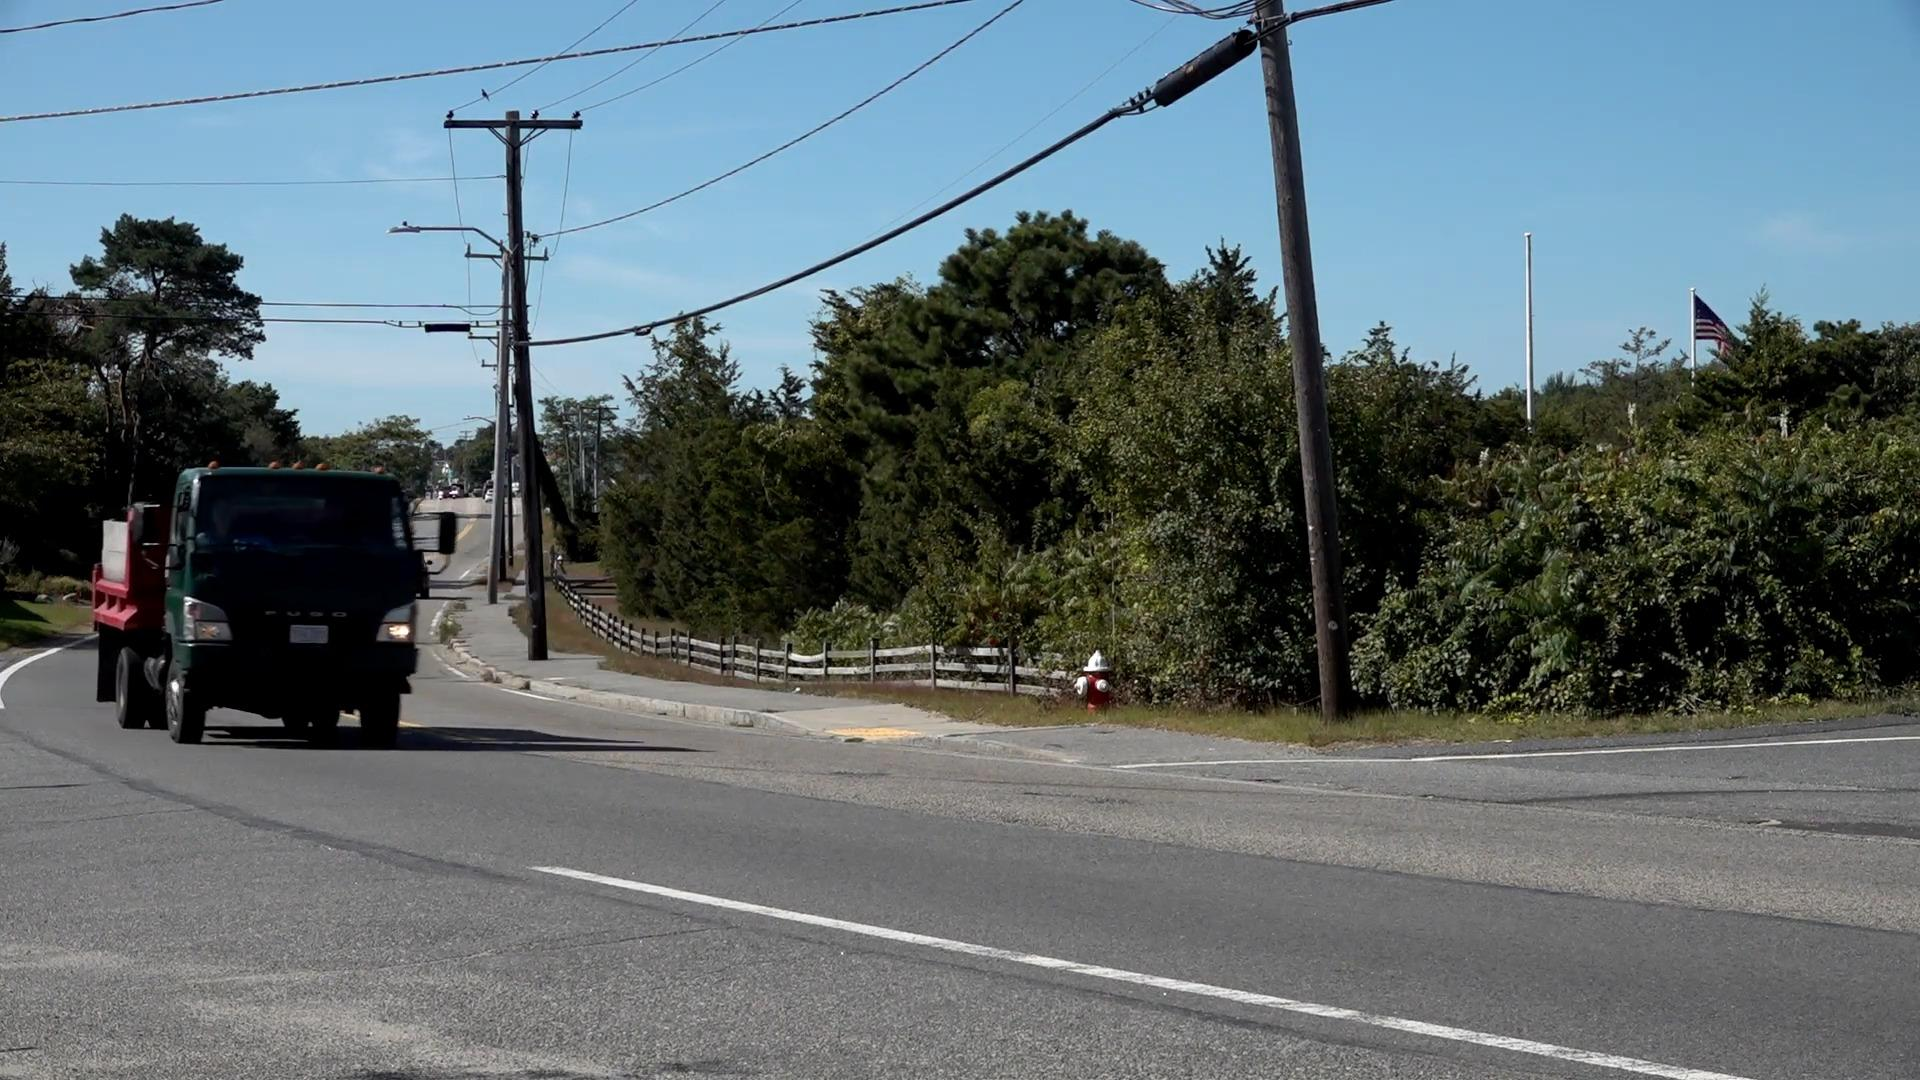truck: (100, 464, 420, 740)
